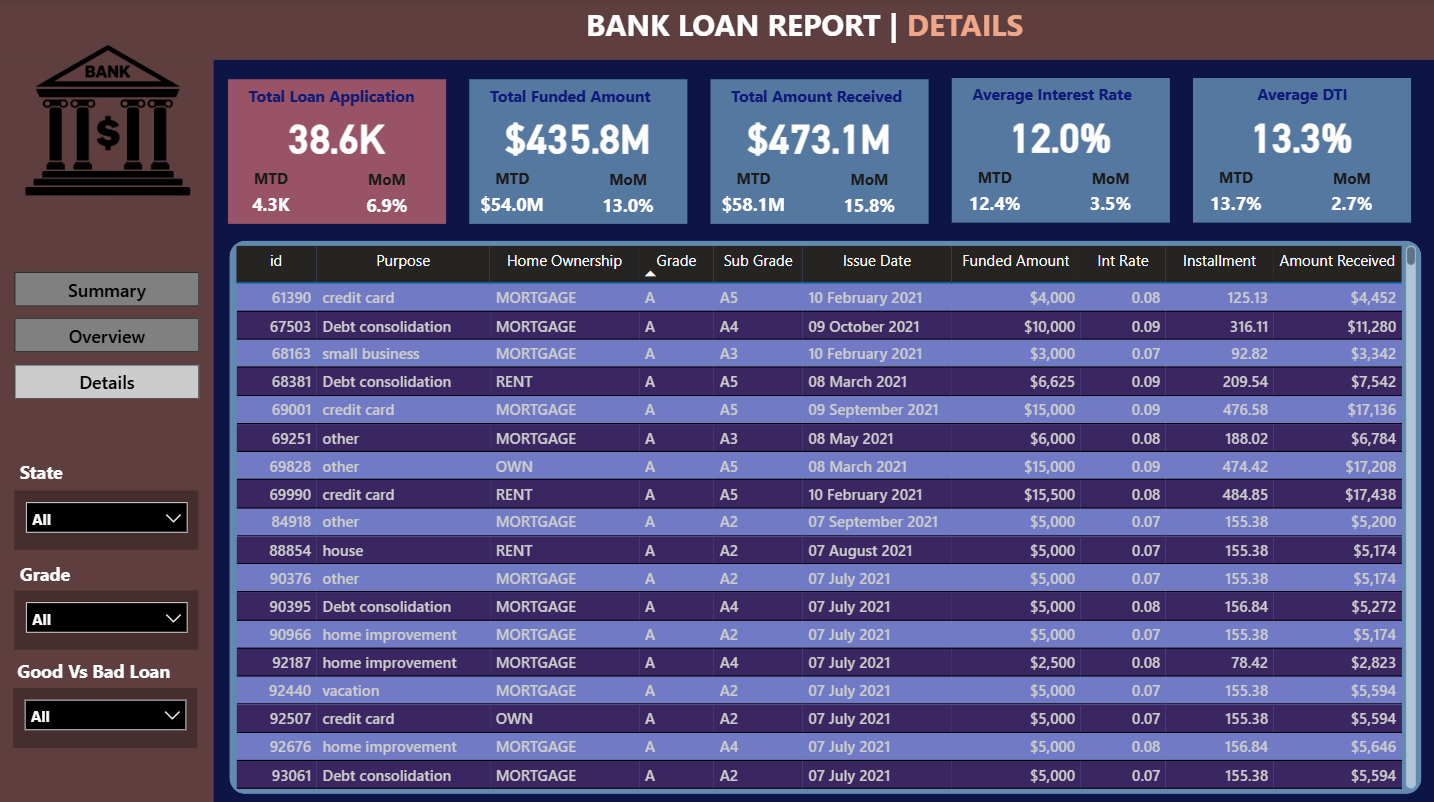

Layout of this report page (visuals, bound fields, positions):
{"tool":"powerbi","page":{"name":"Details","canvas":[1280,720],"ordinal":2},"visuals":[{"type":"shape","box":[0,0,1280,55.1],"z":0},{"type":"shape","box":[0,54.5,192,665.7],"z":1000},{"type":"textbox","box":[518.7,0,407.4,54.5],"z":2000},{"type":"shape","box":[849.7,70.7,194.2,129.1],"z":3000,"group":"g4"},{"type":"shape","box":[1064.3,70.7,194.2,129.1],"z":3000,"group":"g5"},{"type":"group","id":"g1","title":"Group 1","box":[204.9,71.9,194.2,130.6],"z":3000},{"type":"shape","box":[204.9,71.9,194.2,129.1],"z":3000,"group":"g1"},{"type":"shape","box":[419.9,71.9,194.2,129.1],"z":3000,"group":"g2"},{"type":"shape","box":[634.8,71.9,194.2,129.1],"z":3000,"group":"g3"},{"type":"card","fields":{"Values":["bank_loan_db bank_loan.Average Interest Rate"]},"box":[875.8,88.5,142.1,65.1],"z":4000,"group":"g4"},{"type":"card","fields":{"Values":["bank_loan_db bank_loan.Average DTI"]},"box":[1090.4,88.5,142.1,65.1],"z":4000,"group":"g5"},{"type":"card","fields":{"Values":["bank_loan_db bank_loan.Total Loan Applications"]},"box":[231,89.7,142.1,65.1],"z":4000,"group":"g1"},{"type":"card","fields":{"Values":["bank_loan_db bank_loan.Total Funded Amount"]},"box":[446,89.7,142.1,65.1],"z":4000,"group":"g2"},{"type":"card","fields":{"Values":["bank_loan_db bank_loan.Total Amount Received"]},"box":[660.9,89.7,142.1,65.1],"z":4000,"group":"g3"},{"type":"textbox","box":[862.7,70.7,168.2,35.5],"z":5000,"group":"g4"},{"type":"textbox","box":[1077.3,70.7,168.2,35.5],"z":5000,"group":"g5"},{"type":"textbox","box":[217.9,71.9,168.2,35.5],"z":5000,"group":"g1"},{"type":"group","id":"g2","title":"Group 1","box":[419.9,71.9,194.2,130.6],"z":5000},{"type":"textbox","box":[432.9,71.9,168.2,35.5],"z":5000,"group":"g2"},{"type":"textbox","box":[647.8,71.9,168.2,35.5],"z":5000,"group":"g3"},{"type":"group","id":"g3","title":"Group 1","box":[634.8,71.9,194.2,130.6],"z":6000},{"type":"card","title":"MoM","fields":{"Values":["bank_loan_db bank_loan.MoM Avg Int Rate"]},"box":[957.6,150.6,67.1,50.3],"z":6000,"group":"g4"},{"type":"card","title":"MoM","fields":{"Values":["bank_loan_db bank_loan.MoM Avg DTI"]},"box":[1172.2,150.6,67.1,50.3],"z":6000,"group":"g5"},{"type":"card","title":"MoM","fields":{"Values":["bank_loan_db bank_loan.MoM Loan Application"]},"box":[312.8,151.8,67.1,50.3],"z":6000,"group":"g1"},{"type":"card","title":"MoM","fields":{"Values":["bank_loan_db bank_loan.MoM Total Funded Amount"]},"box":[527.8,151.8,67.1,50.3],"z":6000,"group":"g2"},{"type":"card","title":"MoM","fields":{"Values":["bank_loan_db bank_loan.MoM Total Amount Received"]},"box":[742.7,151.8,67.1,50.3],"z":6000,"group":"g3"},{"type":"group","id":"g4","title":"Group 1","box":[849.7,70.7,193.8,130],"z":7000},{"type":"card","title":"MTD","fields":{"Values":["bank_loan_db bank_loan.MTD Avg Int Rate"]},"box":[849.8,149.4,76.7,51.5],"z":7000,"group":"g4"},{"type":"card","title":"MTD","fields":{"Values":["bank_loan_db bank_loan.MTD Avg DTI"]},"box":[1064.4,149.4,76.7,51.5],"z":7000,"group":"g5"},{"type":"card","title":"MTD","fields":{"Values":["bank_loan_db bank_loan.MTD Loan Applications"]},"box":[205,150.6,76.7,51.5],"z":7000,"group":"g1"},{"type":"card","title":"MTD","fields":{"Values":["bank_loan_db bank_loan.MTD Funded Amount"]},"box":[420,150.6,76.7,51.5],"z":7000,"group":"g2"},{"type":"card","title":"MTD","fields":{"Values":["bank_loan_db bank_loan.MTD Total Amount Received"]},"box":[634.9,150.6,76.7,51.5],"z":7000,"group":"g3"},{"type":"group","id":"g5","title":"Group 1","box":[1064.3,70.7,194.2,129.4],"z":8000},{"type":"slicer","fields":{"Values":["bank_loan_db bank_loan.address_state"]},"box":[14.4,438.7,164.2,52.7],"z":9000},{"type":"textbox","box":[14.4,406.3,59.9,36],"z":10000},{"type":"slicer","fields":{"Values":["bank_loan_db bank_loan.grade"]},"box":[14.4,527.3,164.2,52.7],"z":11000},{"type":"textbox","box":[14.4,496.2,58.7,36],"z":12000},{"type":"slicer","fields":{"Values":["bank_loan_db bank_loan.Good Vs Bad Loan"]},"box":[13.2,614.8,164.2,53.9],"z":13000},{"type":"textbox","box":[12.2,583.3,165.9,43.4],"z":14000},{"type":"shape","box":[205.9,216,1062,493.1],"z":17001},{"type":"tableEx","fields":{"Values":["bank_loan_db bank_loan.id","bank_loan_db bank_loan.purpose","bank_loan_db bank_loan.home_ownership","bank_loan_db bank_loan.grade","bank_loan_db bank_loan.sub_grade","bank_loan_db bank_loan.issue_date","bank_loan_db bank_loan.Total Funded Amount","Sum(bank_loan_db bank_loan.int_rate)","Sum(bank_loan_db bank_loan.installment)","bank_loan_db bank_loan.Total Amount Received"]},"box":[205.9,216,1062,493.1],"z":17002},{"type":"pageNavigator","box":[14.5,243.8,165.9,115.8],"z":17003},{"type":"image","box":[2.2,0,191.5,243.8],"z":17004}]}

Visuals, with their boxes in screenshot pixels (x1, y1, x2, y2), scaled from the page's 1280x720 canvas onto the 1434x802 screenshot:
shape: (0, 0, 1433, 61)
shape: (0, 61, 215, 801)
textbox: (581, 0, 1038, 61)
shape: (952, 79, 1169, 223)
shape: (1192, 79, 1410, 223)
"Group 1" group: (230, 80, 447, 226)
shape: (230, 80, 447, 224)
shape: (470, 80, 688, 224)
shape: (711, 80, 929, 224)
card - bank_loan_db bank_loan.Average Interest Rate: (981, 99, 1140, 171)
card - bank_loan_db bank_loan.Average DTI: (1222, 99, 1381, 171)
card - bank_loan_db bank_loan.Total Loan Applications: (259, 100, 418, 172)
card - bank_loan_db bank_loan.Total Funded Amount: (500, 100, 659, 172)
card - bank_loan_db bank_loan.Total Amount Received: (740, 100, 900, 172)
textbox: (966, 79, 1155, 118)
textbox: (1207, 79, 1395, 118)
textbox: (244, 80, 433, 120)
"Group 1" group: (470, 80, 688, 226)
textbox: (485, 80, 673, 120)
textbox: (726, 80, 914, 120)
"Group 1" group: (711, 80, 929, 226)
"MoM" card: (1073, 168, 1148, 224)
"MoM" card: (1313, 168, 1388, 224)
"MoM" card: (350, 169, 426, 225)
"MoM" card: (591, 169, 666, 225)
"MoM" card: (832, 169, 907, 225)
"Group 1" group: (952, 79, 1169, 224)
"MTD" card: (952, 166, 1038, 224)
"MTD" card: (1192, 166, 1278, 224)
"MTD" card: (230, 168, 316, 225)
"MTD" card: (471, 168, 556, 225)
"MTD" card: (711, 168, 797, 225)
"Group 1" group: (1192, 79, 1410, 223)
slicer - bank_loan_db bank_loan.address_state: (16, 489, 200, 547)
textbox: (16, 453, 83, 493)
slicer - bank_loan_db bank_loan.grade: (16, 587, 200, 646)
textbox: (16, 553, 82, 593)
slicer - bank_loan_db bank_loan.Good Vs Bad Loan: (15, 685, 199, 745)
textbox: (14, 650, 200, 698)
shape: (231, 241, 1420, 790)
tableEx - bank_loan_db bank_loan.id x bank_loan_db bank_loan.purpose: (231, 241, 1420, 790)
pageNavigator: (16, 272, 202, 401)
image: (2, 0, 217, 272)
